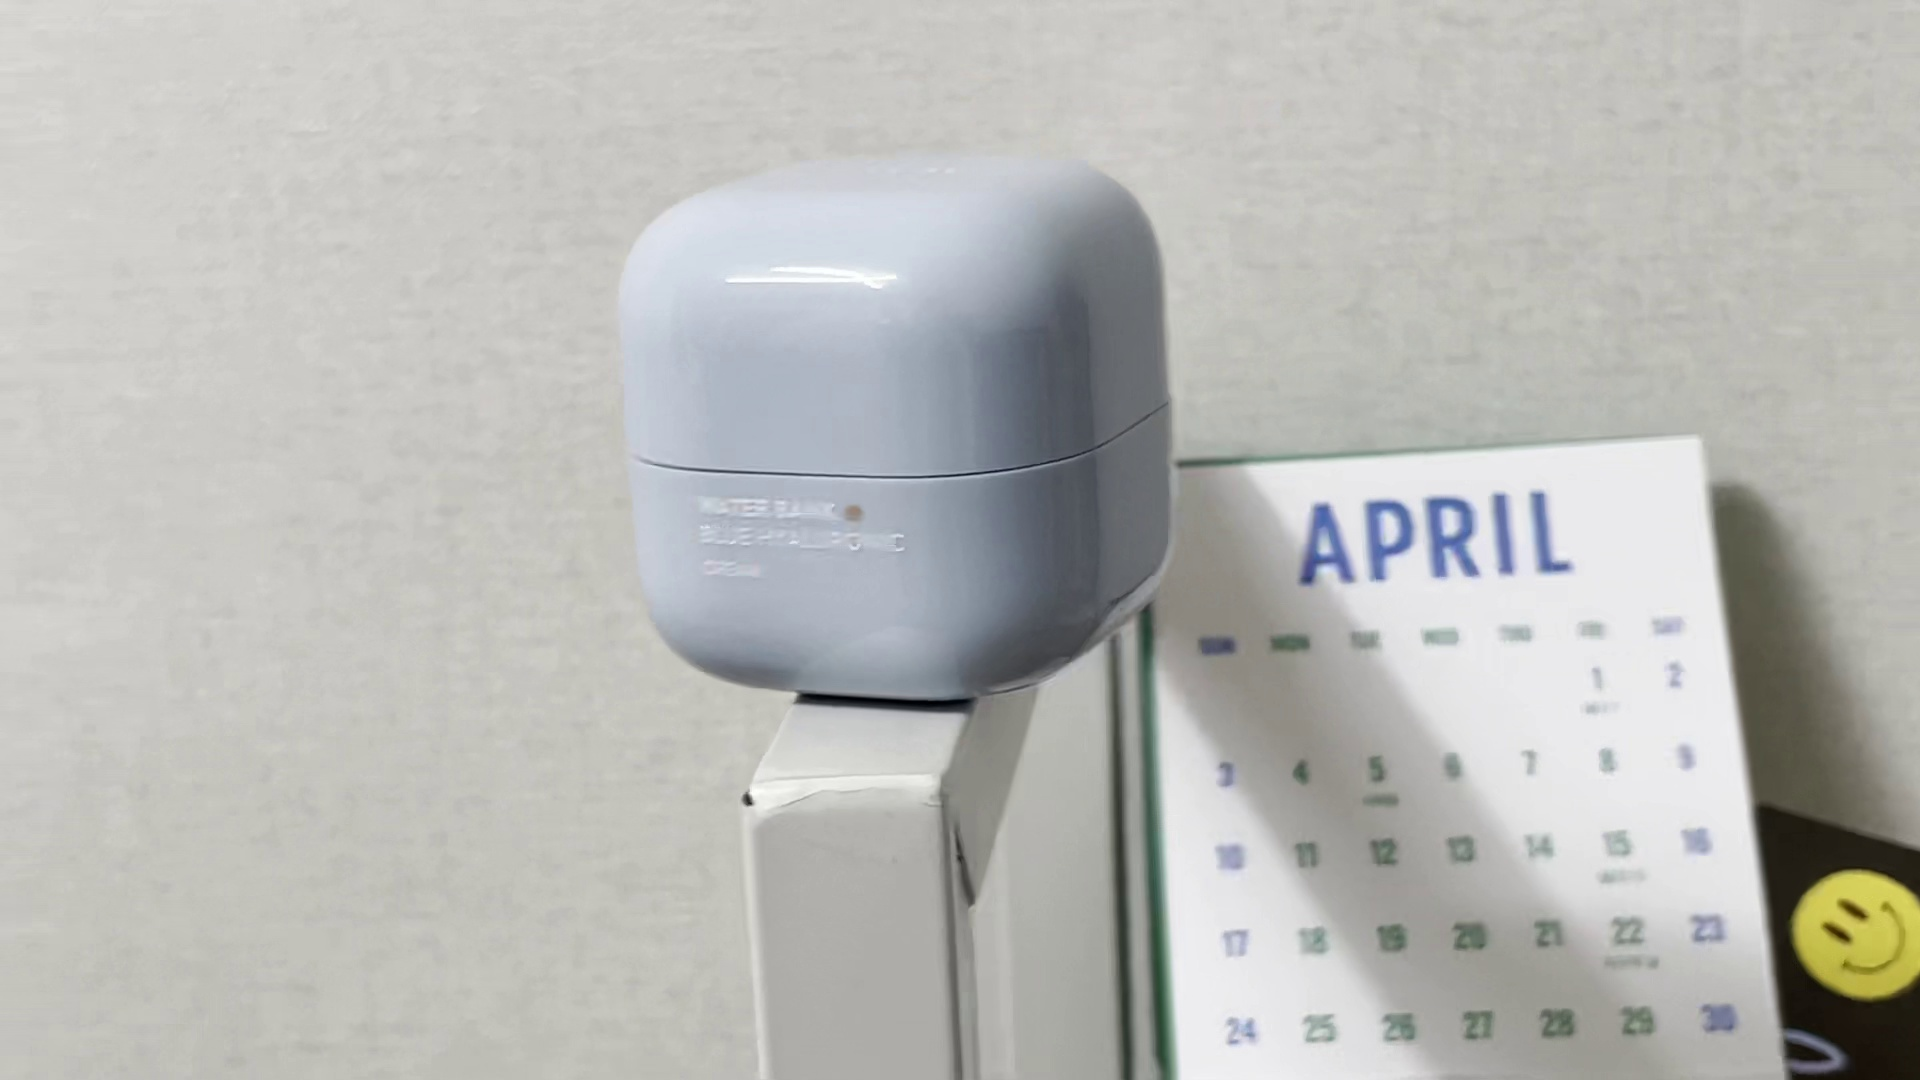cream: (611, 156, 1183, 694)
